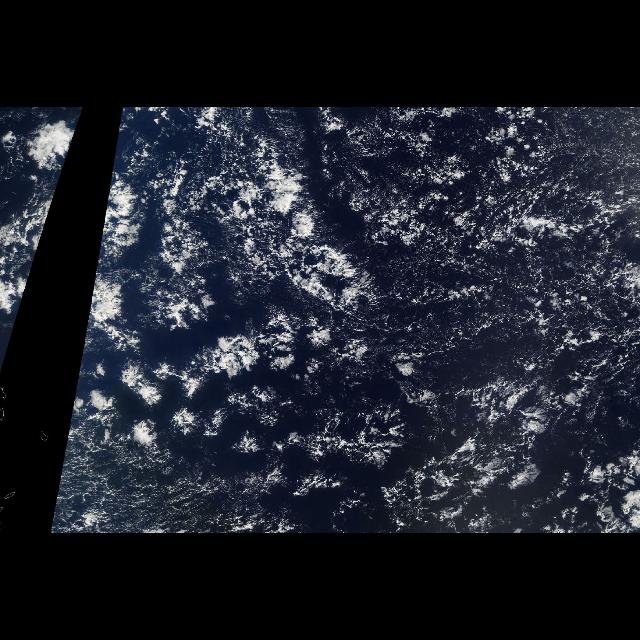Fish: (200, 130, 388, 320)
Flower: (94, 256, 340, 476)
Gravel: (135, 108, 639, 500)
